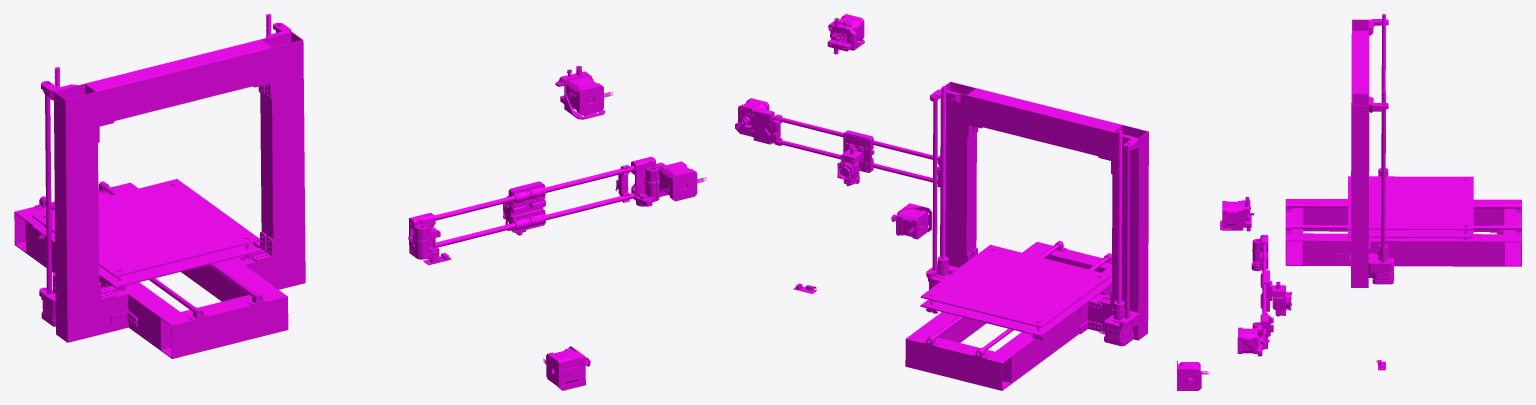
Rendered from 3DPrinter_ExplodedSpline.fbx.
3 views of the same model, side by side, from view 1: azimuth 30°, elevation 25°; view 2: azimuth 150°, elevation 25°; view 3: azimuth 270°, elevation 25° (orthographic). The views are drawn at different scales.
Visible parts, largest first — view 1: 250x250 Bed, 400mm.003, 400mm.002, 300mm, 200mm, 400mm, 400mm.001, Nema 17 Stepper Motor length 40mm.002, Nema 17 Stepper Motor length 40mm.004, C - X_end_motor_2, 350mm Smooth Rod X Axis.001, B - X end_idler (+7 smaller); view 2: 250x250 Bed, 400mm.003, 300mm, 400mm.002, 200mm.001, 400mm, 400mm.001, 200mm, 350mm Smooth Rod X Axis, Trapezoidal lead screw tr8x8-4.001, 350mm Smooth Rod X Axis.001, Trapezoidal lead screw tr8x8-4 (+9 smaller); view 3: 250x250 Bed, 400mm.001, 400mm.002, 400mm, 300mm, 200mm, 200mm.001, 350mm Smooth Rod X Axis, Nema 17 Stepper Motor length 40mm.002, Nema 17 Stepper Motor length 40mm.004, Nema 17 Mount, 460mm Smooth Rod (+6 smaller).
Part boxes in pixels (x1=…): 250x250 Bed: x1=32, y1=179, x2=260, y2=287; 400mm.003: x1=53, y1=83, x2=99, y2=342; 400mm.002: x1=260, y1=31, x2=305, y2=289; 300mm: x1=86, y1=39, x2=271, y2=124; 200mm: x1=160, y1=288, x2=288, y2=358; 400mm: x1=26, y1=218, x2=179, y2=350; 400mm.001: x1=181, y1=258, x2=275, y2=301; Nema 17 Stepper Motor length 40mm.002: x1=659, y1=161, x2=706, y2=201; Nema 17 Stepper Motor length 40mm.004: x1=566, y1=75, x2=612, y2=115; C - X_end_motor_2: x1=631, y1=156, x2=667, y2=206; 350mm Smooth Rod X Axis.001: x1=45, y1=84, x2=51, y2=294; B - X end_idler: x1=408, y1=212, x2=439, y2=259; 250x250 Bed: x1=920, y1=245, x2=1111, y2=336; 400mm.003: x1=1111, y1=125, x2=1148, y2=340; 300mm: x1=967, y1=88, x2=1121, y2=159; 400mm.002: x1=940, y1=81, x2=976, y2=267; 200mm.001: x1=905, y1=331, x2=1012, y2=390; 400mm: x1=995, y1=269, x2=1111, y2=383; 400mm.001: x1=916, y1=249, x2=1043, y2=342; 200mm: x1=1027, y1=242, x2=1111, y2=272; 350mm Smooth Rod X Axis: x1=932, y1=96, x2=937, y2=270; Trapezoidal lead screw tr8x8-4.001: x1=1117, y1=130, x2=1122, y2=303; 350mm Smooth Rod X Axis.001: x1=1125, y1=144, x2=1130, y2=318; Trapezoidal lead screw tr8x8-4: x1=941, y1=86, x2=945, y2=259; 250x250 Bed: x1=1348, y1=176, x2=1473, y2=238; 400mm.001: x1=1303, y1=233, x2=1504, y2=266; 400mm.002: x1=1351, y1=93, x2=1369, y2=287; 400mm: x1=1303, y1=199, x2=1504, y2=231; 300mm: x1=1351, y1=31, x2=1369, y2=108; 200mm: x1=1285, y1=199, x2=1303, y2=265; 200mm.001: x1=1504, y1=199, x2=1521, y2=266; 350mm Smooth Rod X Axis: x1=1381, y1=104, x2=1385, y2=262; Nema 17 Stepper Motor length 40mm.002: x1=1237, y1=327, x2=1269, y2=353; Nema 17 Stepper Motor length 40mm.004: x1=1222, y1=201, x2=1254, y2=227; Nema 17 Mount: x1=1177, y1=361, x2=1201, y2=390; 460mm Smooth Rod: x1=1292, y1=203, x2=1515, y2=208.
Size of the model in its own units: 97.97 by 51.51 by 68.67.
